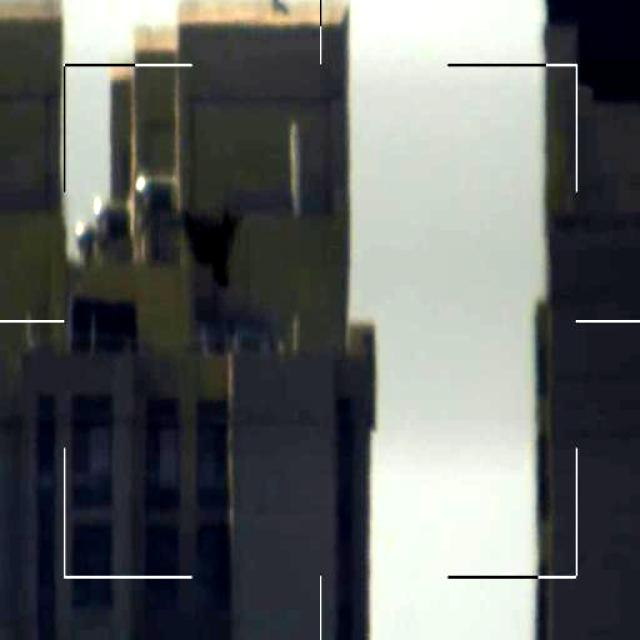bird: (179, 206, 241, 289)
